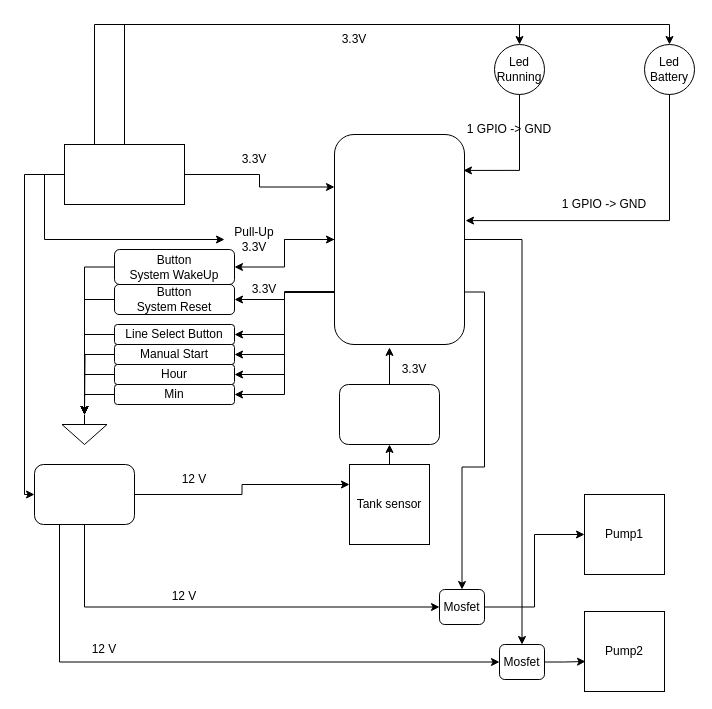
Some shapes in this 712 by 709 pixel diagram are drawn without their labels. The centre of each missing label's shape, as x and y in pixels:
Battery: (x=124, y=174)
ESP32: (x=399, y=239)
Setp-down 12V -> 3.3V: (x=389, y=414)
Setp-up 3.3V -> 12V: (x=84, y=494)
